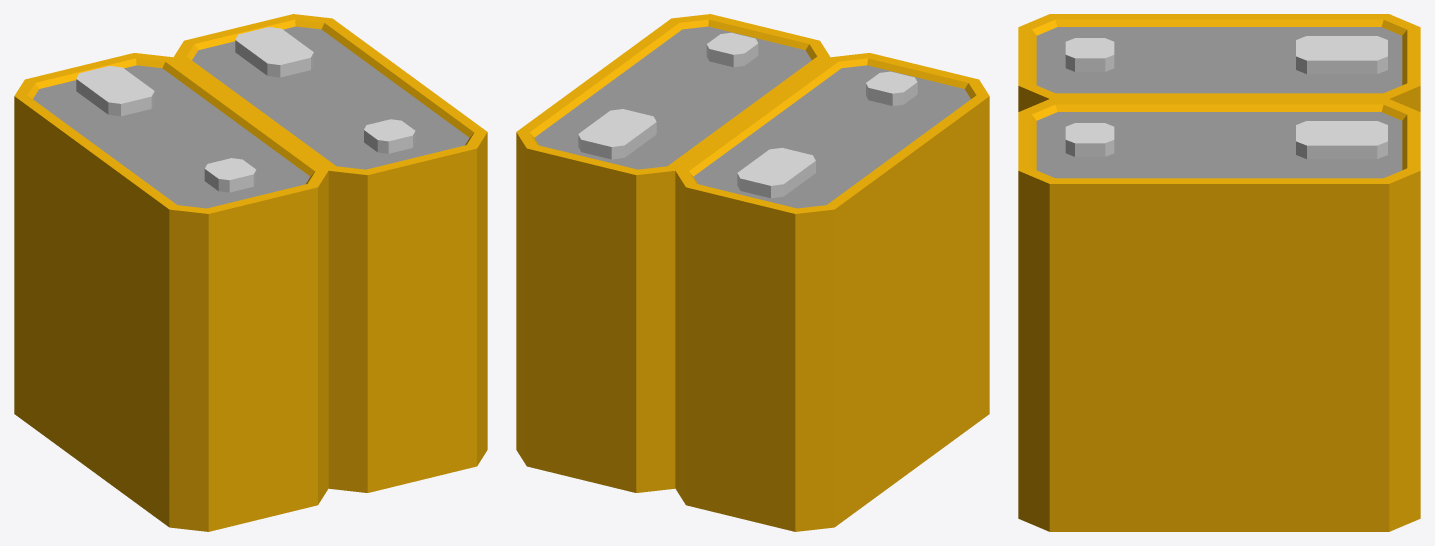
Rendered from epe_battery_cell.dae.
3 renders of one model, left to right at view 1: azimuth 30°, elevation 25°; view 2: azimuth 150°, elevation 25°; view 3: azimuth 270°, elevation 25°, orthographic. The views are drawn at different scales.
Parts seen in each view (by area): view 1: Cube.001; view 2: Cube.001; view 3: Cube.001.
Boxes of the visible parts, <box> form: Cube.001: <box>14,14,487,531</box>; Cube.001: <box>516,14,989,531</box>; Cube.001: <box>1018,14,1420,531</box>.
Size of the model in its own units: 0.25 by 0.25 by 0.25.
